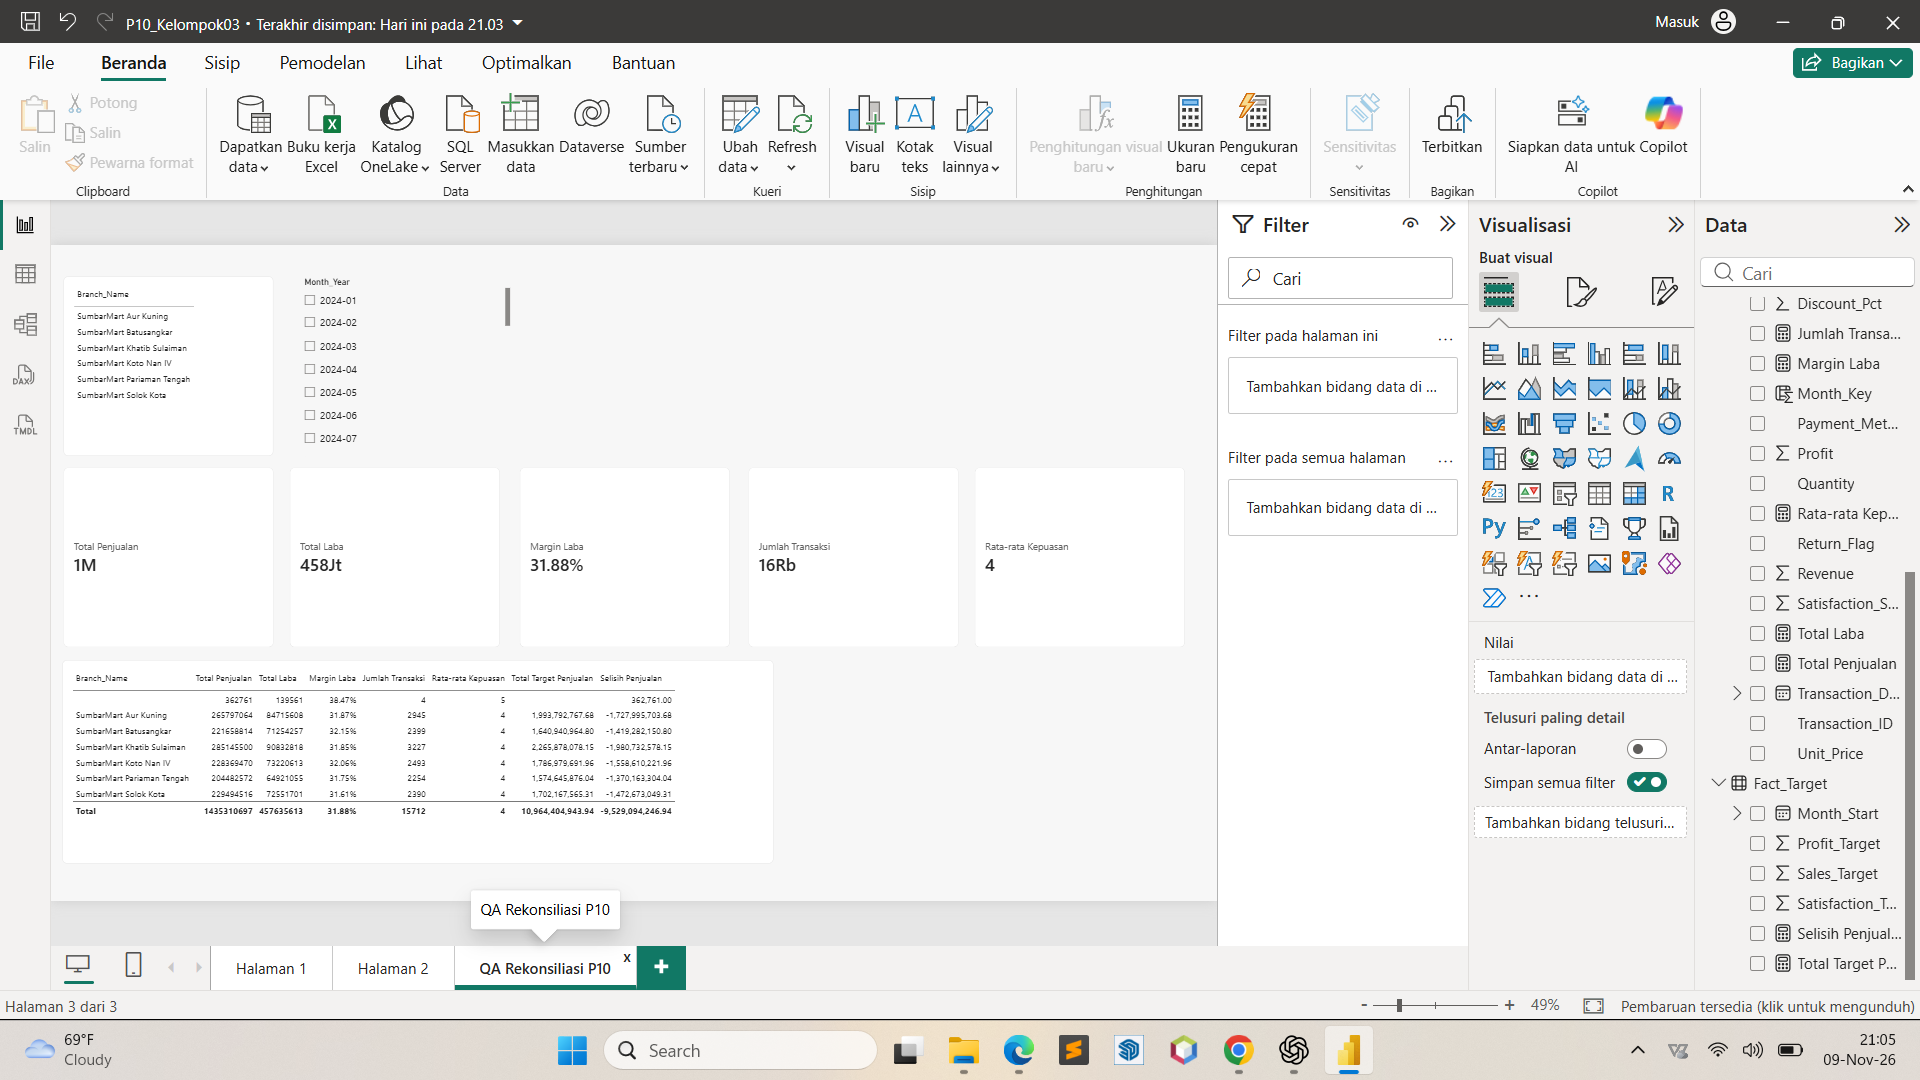

Layout of this report page (visuals, bound fields, positions):
{"tool":"powerbi","page":{"name":"QA Rekonsiliasi P10","canvas":[1920,1080],"ordinal":2},"visuals":[{"type":"tableEx","fields":{"Values":["Dim_Branch.Branch_Name"]},"box":[20.6,51.5,345.8,296.4],"z":1},{"type":"slicer","fields":{"Values":["Dim Date.Month_Year"]},"box":[409.6,51.5,346,296],"z":2},{"type":"cardVisual","fields":{"Data":["Fact_Sales.Total Penjualan"]},"box":[20.6,366.4,346,296],"z":3},{"type":"cardVisual","fields":{"Data":["Fact_Sales.Total Laba"]},"box":[393.1,366.4,346,296],"z":4},{"type":"cardVisual","fields":{"Data":["Fact_Sales.Margin Laba"]},"box":[771.9,366.4,346,296],"z":5},{"type":"cardVisual","fields":{"Data":["Fact_Sales.Jumlah Transaksi"]},"box":[1148.5,366.4,346,296],"z":6},{"type":"cardVisual","fields":{"Data":["Fact_Sales.Rata-rata Kepuasan"]},"box":[1521.1,366.4,346,296],"z":7},{"type":"tableEx","fields":{"Values":["Dim_Branch.Branch_Name","Fact_Sales.Total Penjualan","Fact_Sales.Total Laba","Fact_Sales.Margin Laba","Fact_Sales.Jumlah Transaksi","Fact_Sales.Rata-rata Kepuasan","Fact_Target.Total Target Penjualan","Fact_Target.Selisih Penjualan"]},"box":[18.5,683.4,1171.2,335.5],"z":8}]}

Visuals, with their boxes on the page's 1920x1080 design canvas (x1, y1, x2, y2). These are canvas units, not pixel positions in the 1920x1080 screenshot, which may show the page scaled, cropped or inside an application window:
tableEx - Dim_Branch.Branch_Name: (21, 52, 366, 348)
slicer - Dim Date.Month_Year: (410, 52, 756, 348)
cardVisual - Fact_Sales.Total Penjualan: (21, 366, 367, 662)
cardVisual - Fact_Sales.Total Laba: (393, 366, 739, 662)
cardVisual - Fact_Sales.Margin Laba: (772, 366, 1118, 662)
cardVisual - Fact_Sales.Jumlah Transaksi: (1148, 366, 1494, 662)
cardVisual - Fact_Sales.Rata-rata Kepuasan: (1521, 366, 1867, 662)
tableEx - Dim_Branch.Branch_Name x Fact_Sales.Total Penjualan: (18, 683, 1190, 1019)
